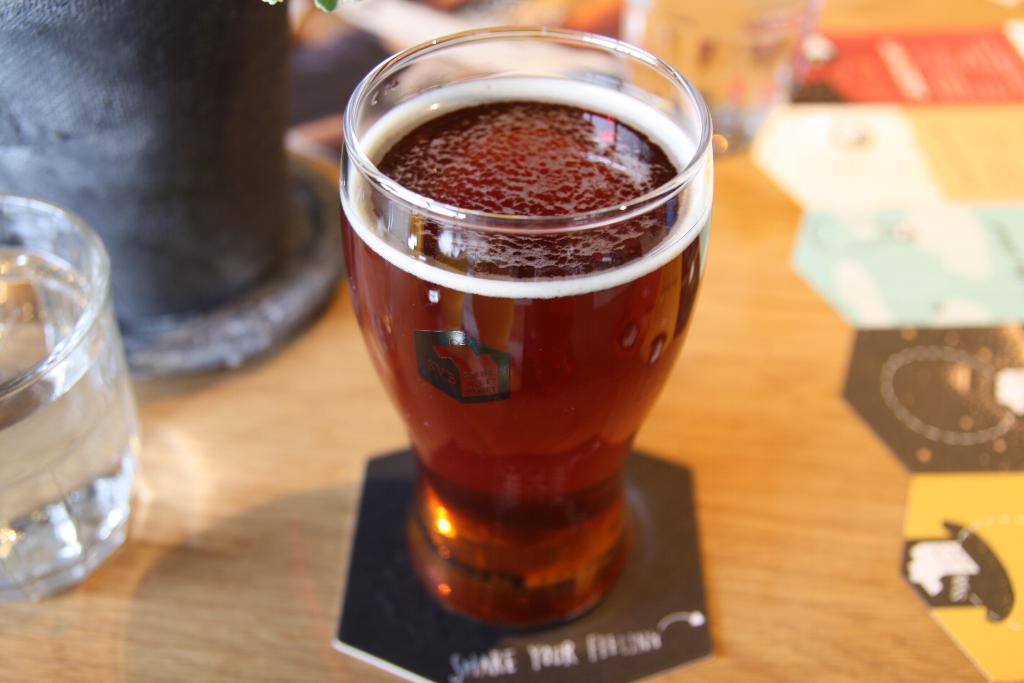Beer: (305, 3, 757, 682)
